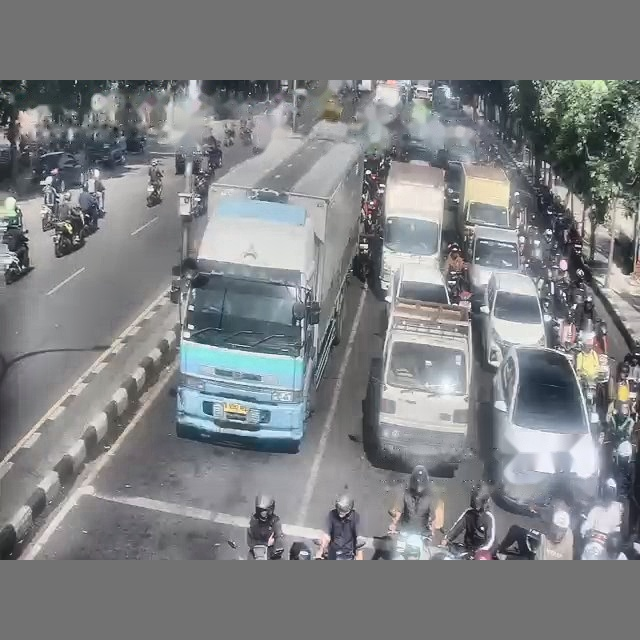Mobil: (491, 346, 598, 509), (480, 272, 546, 367), (385, 262, 450, 318), (469, 226, 520, 293), (32, 151, 84, 190), (86, 137, 125, 166), (445, 161, 462, 208), (126, 131, 145, 153)
Motor: (53, 220, 85, 257), (3, 252, 30, 284), (146, 182, 161, 206)
Truk: (176, 122, 363, 451), (363, 298, 472, 467), (379, 162, 445, 292), (456, 163, 515, 248)
